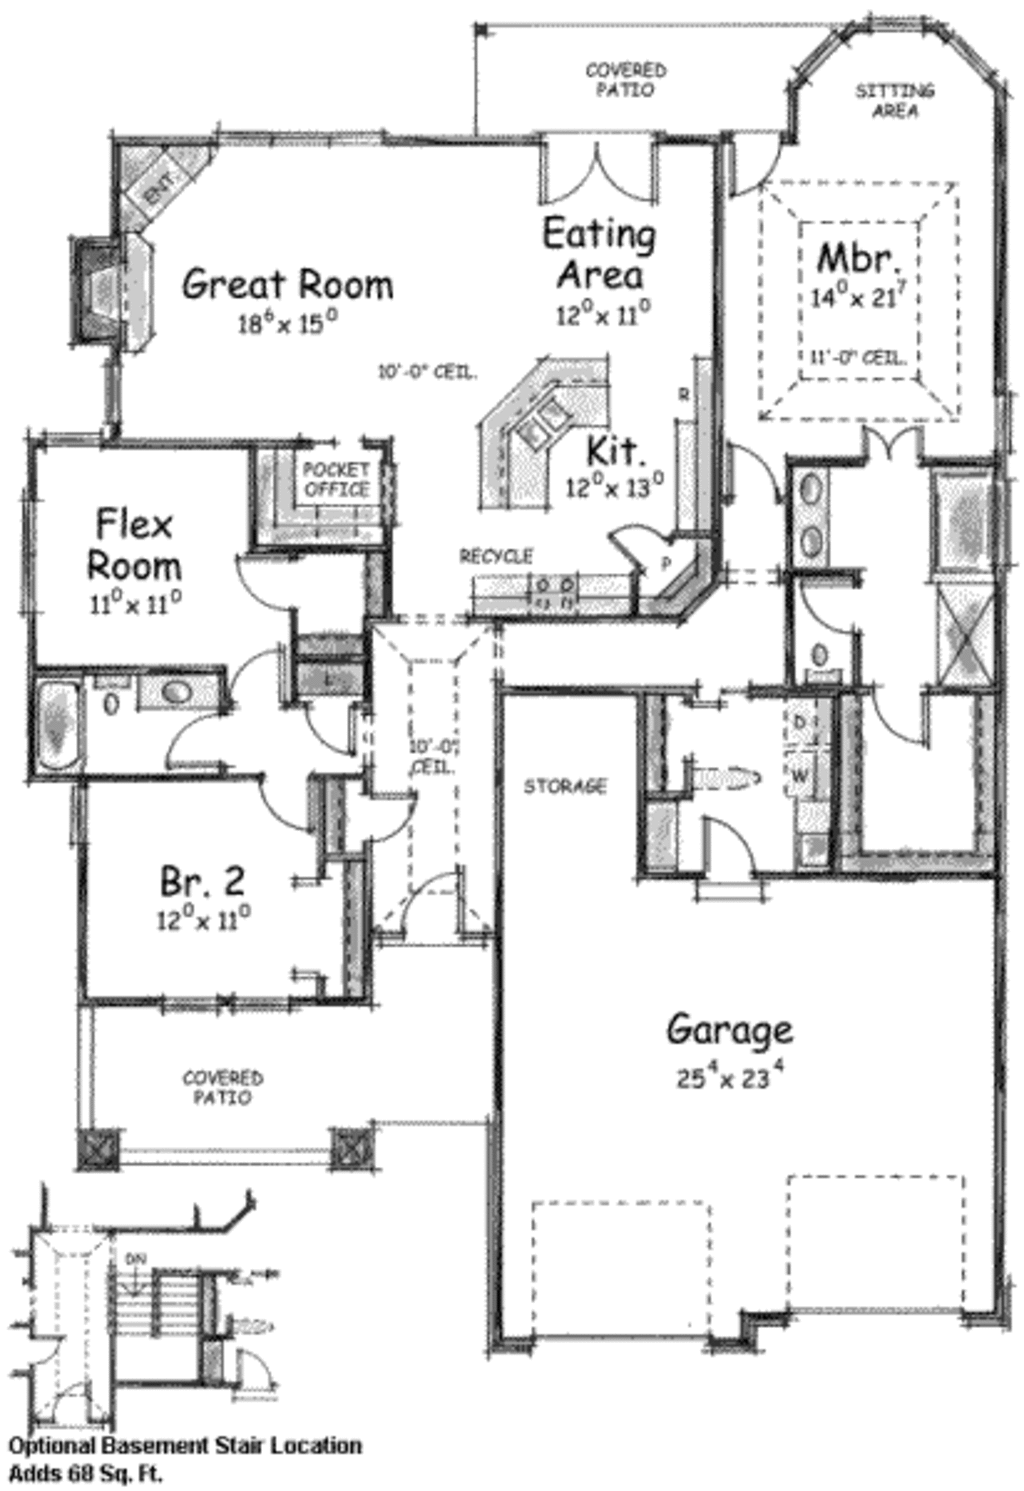door: (519, 123, 674, 221), (688, 802, 768, 898), (393, 847, 477, 939), (865, 674, 949, 753), (703, 127, 785, 205), (608, 501, 685, 582), (796, 571, 869, 642), (257, 772, 328, 842), (151, 712, 234, 770), (239, 545, 309, 613), (717, 434, 785, 504), (850, 414, 937, 468), (291, 695, 366, 756), (228, 641, 295, 708), (356, 789, 425, 847), (42, 1373, 103, 1425), (225, 1341, 279, 1399), (23, 1324, 69, 1371)
large_sink: (791, 634, 853, 682), (83, 667, 129, 714)
small_sink: (129, 664, 219, 707), (790, 462, 825, 570)
stairs: (113, 1221, 202, 1390)
tub: (23, 668, 100, 772)
twin_sink: (502, 384, 584, 459)
window: (225, 975, 299, 1026), (145, 988, 214, 1022)
